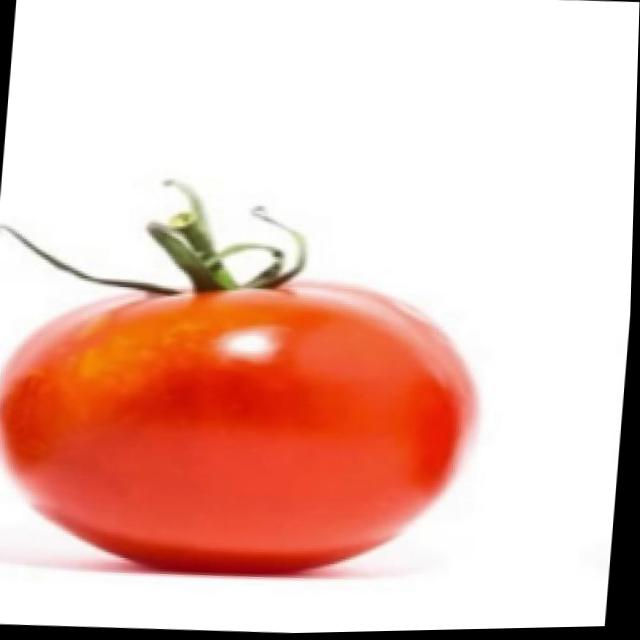tomato: (0, 262, 491, 596)
